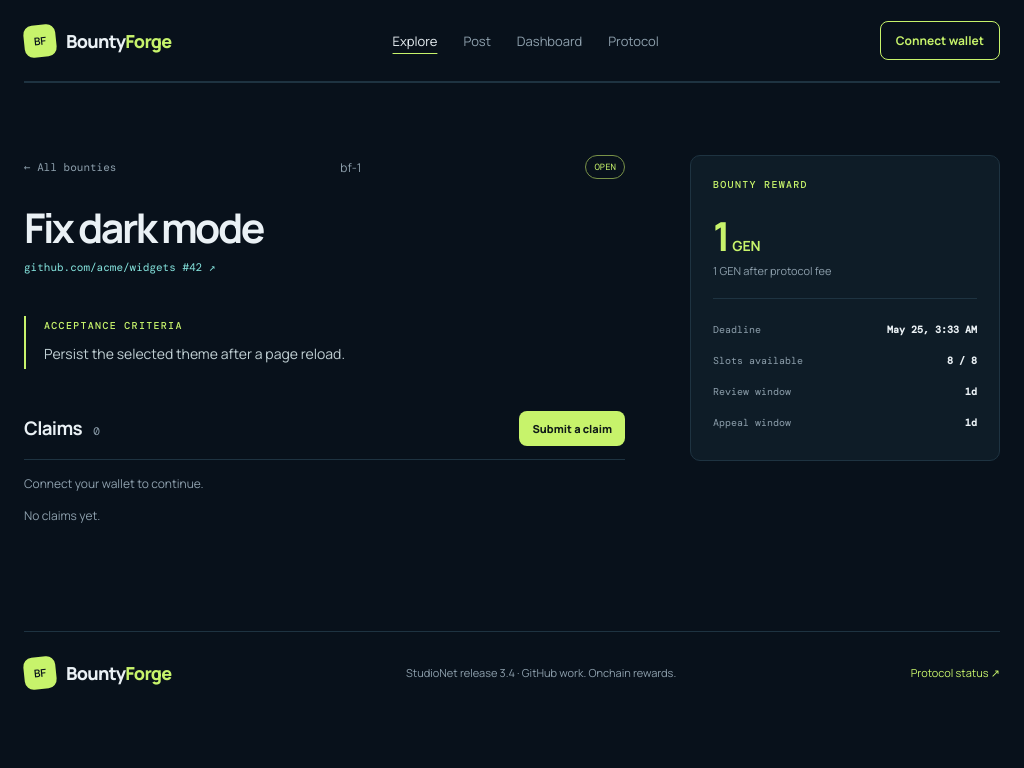
Test case: forms retain drafts and enforce policy › keeps a failed claim and its wallet marker visible
Click the button "Connect wallet".
click(940, 40)  # box [880,21,1000,60]
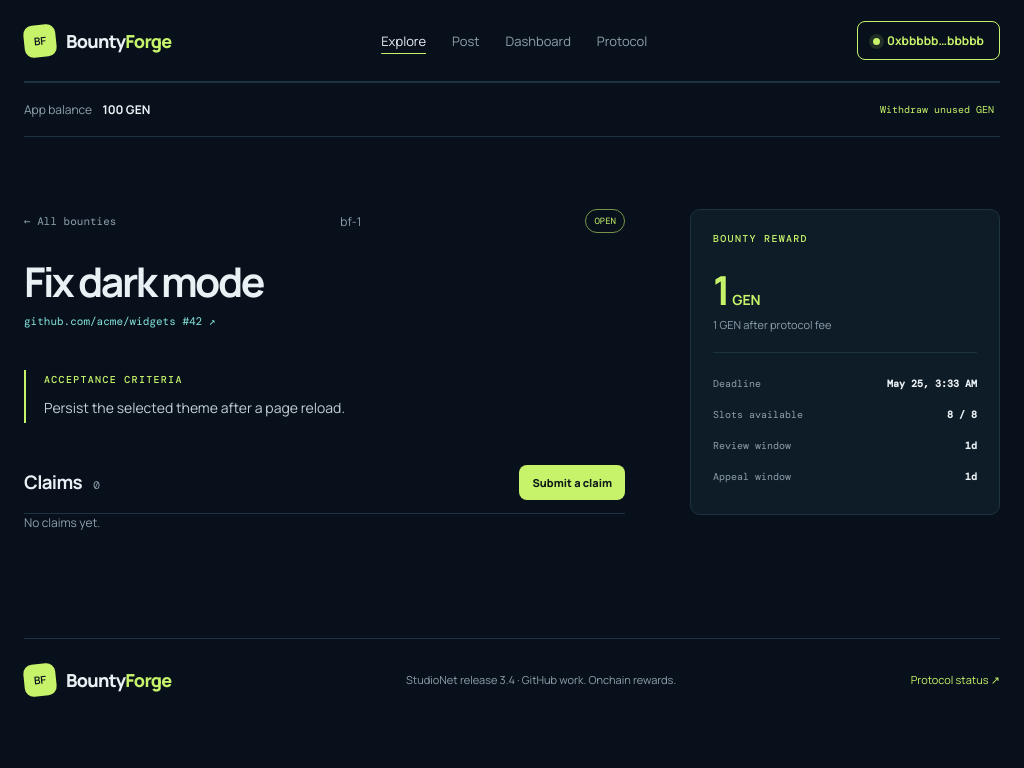
Expected: the button with aria-label "Disconnect wallet" is shown, [857,21,1000,60]
Click the button "Submit a claim".
click(572, 482)  # box [520,465,625,500]
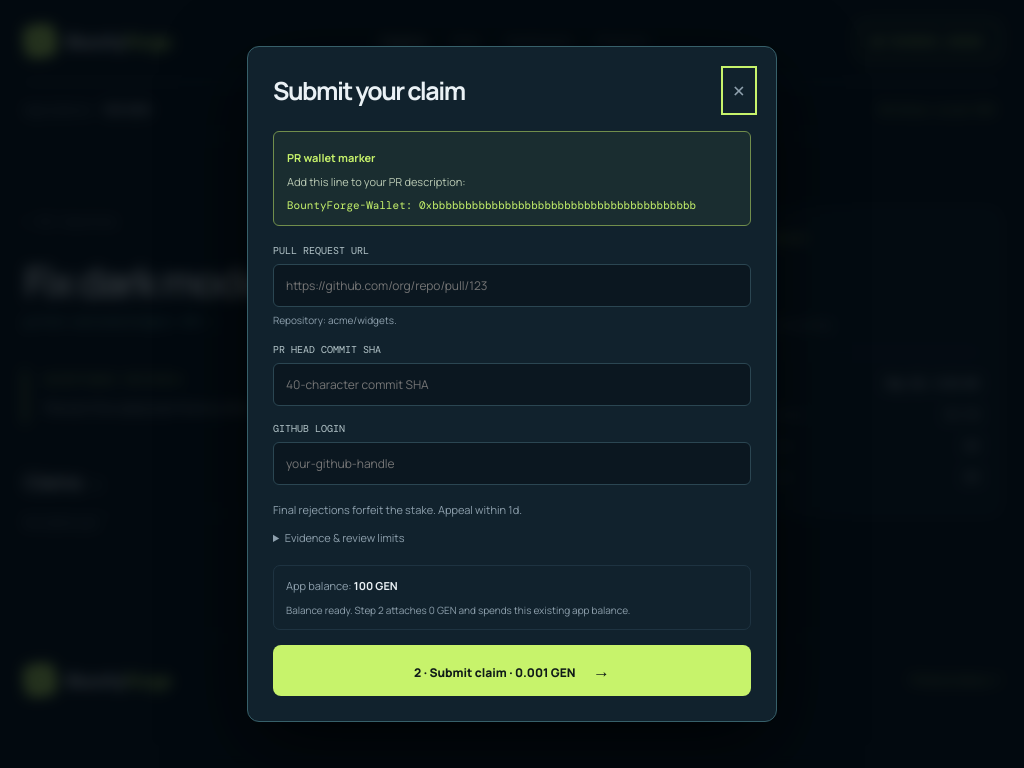
Type "https://github.com/acme/widgets/pull/99" into the field labelled "Pull request URL".
click(512, 285); type("https://github.com/acme/widgets/pull/99")  # box [273,264,751,307]
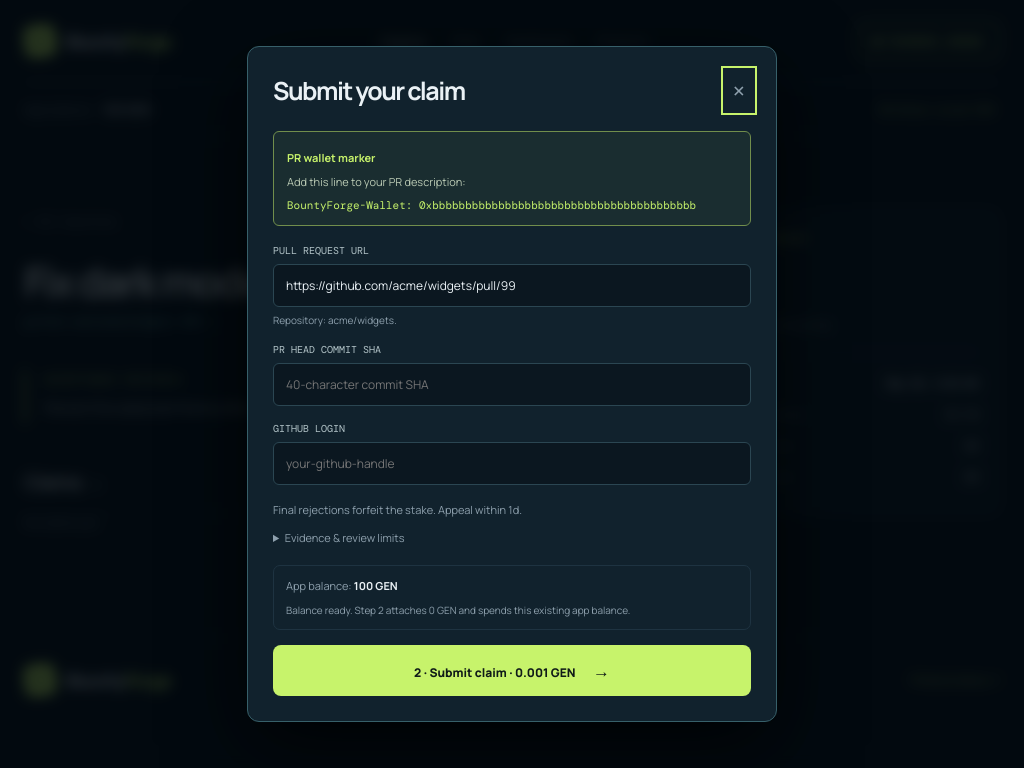
Type "aaaaaaaaaaaaaaaaaaaaaaaaaaaaaaaaaaaaaaaa" into the field labelled "PR head commit SHA".
click(512, 384); type("aaaaaaaaaaaaaaaaaaaaaaaaaaaaaaaaaaaaaaaa")  # box [273,363,751,406]
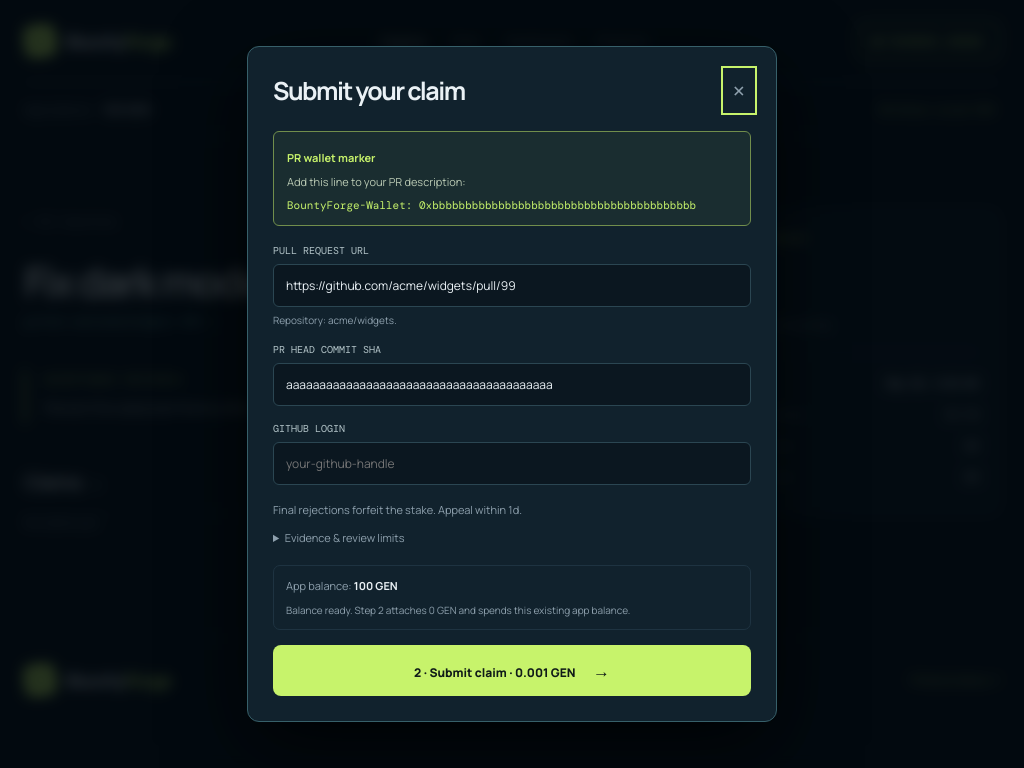
Type "hunter" into the field labelled "GitHub login".
click(512, 463); type("hunter")  # box [273,442,751,485]
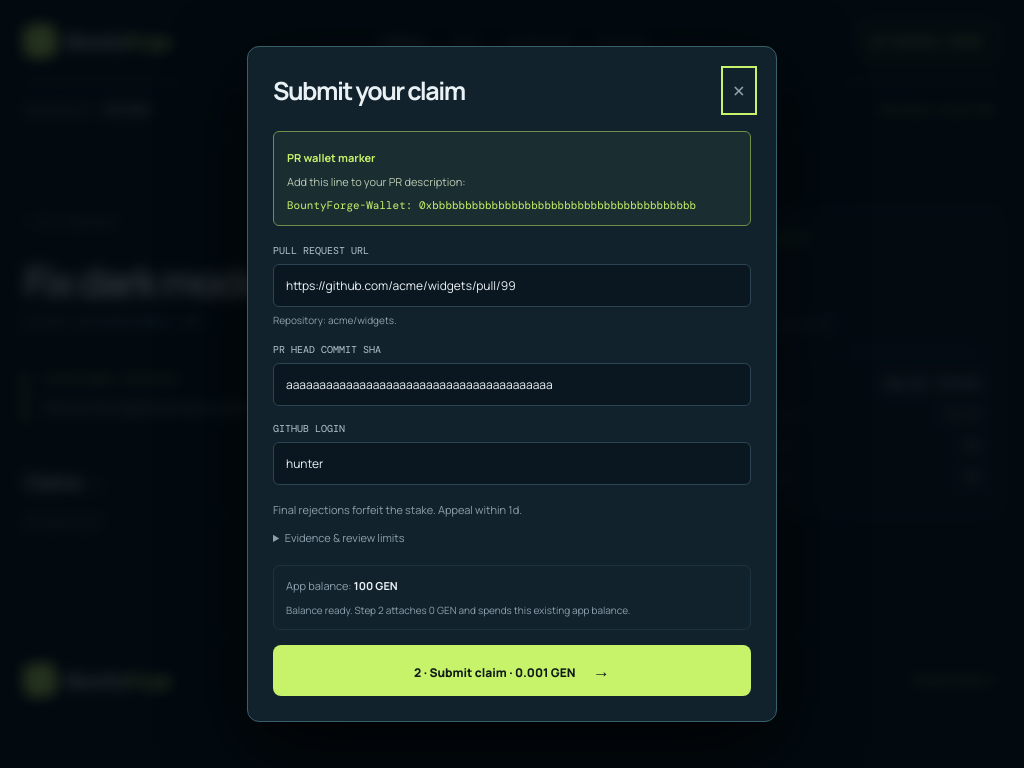
Submit the form, box [273,131,751,696]
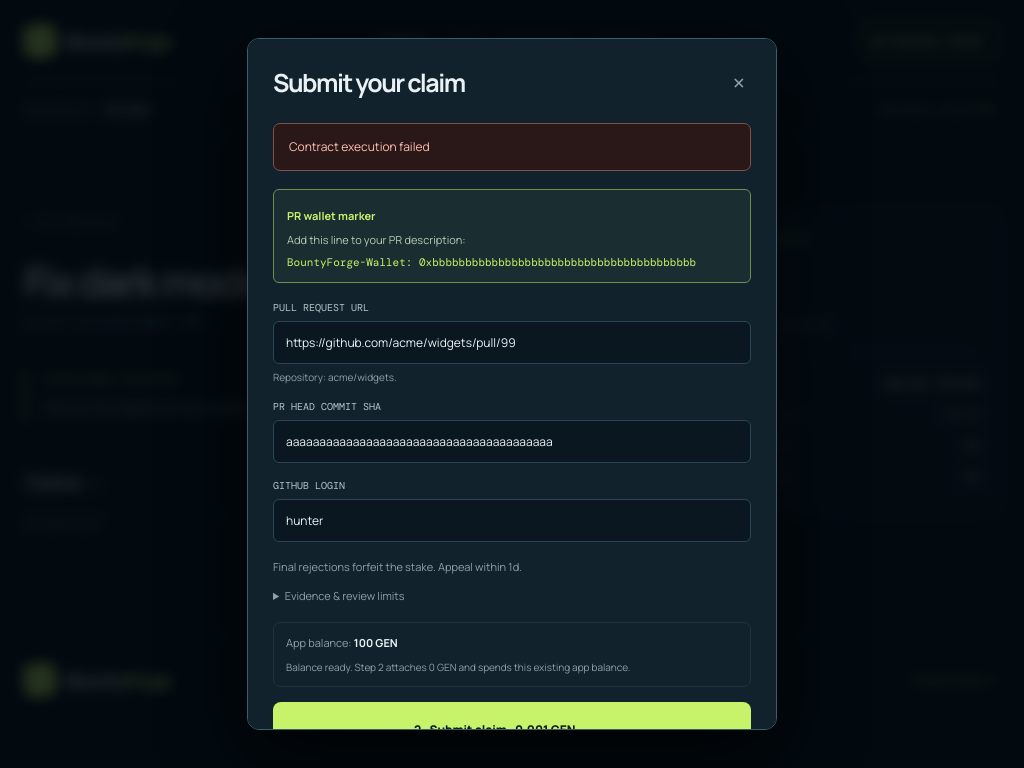
Expected: the message reads "Contract execution failed", [289,138,430,155]
